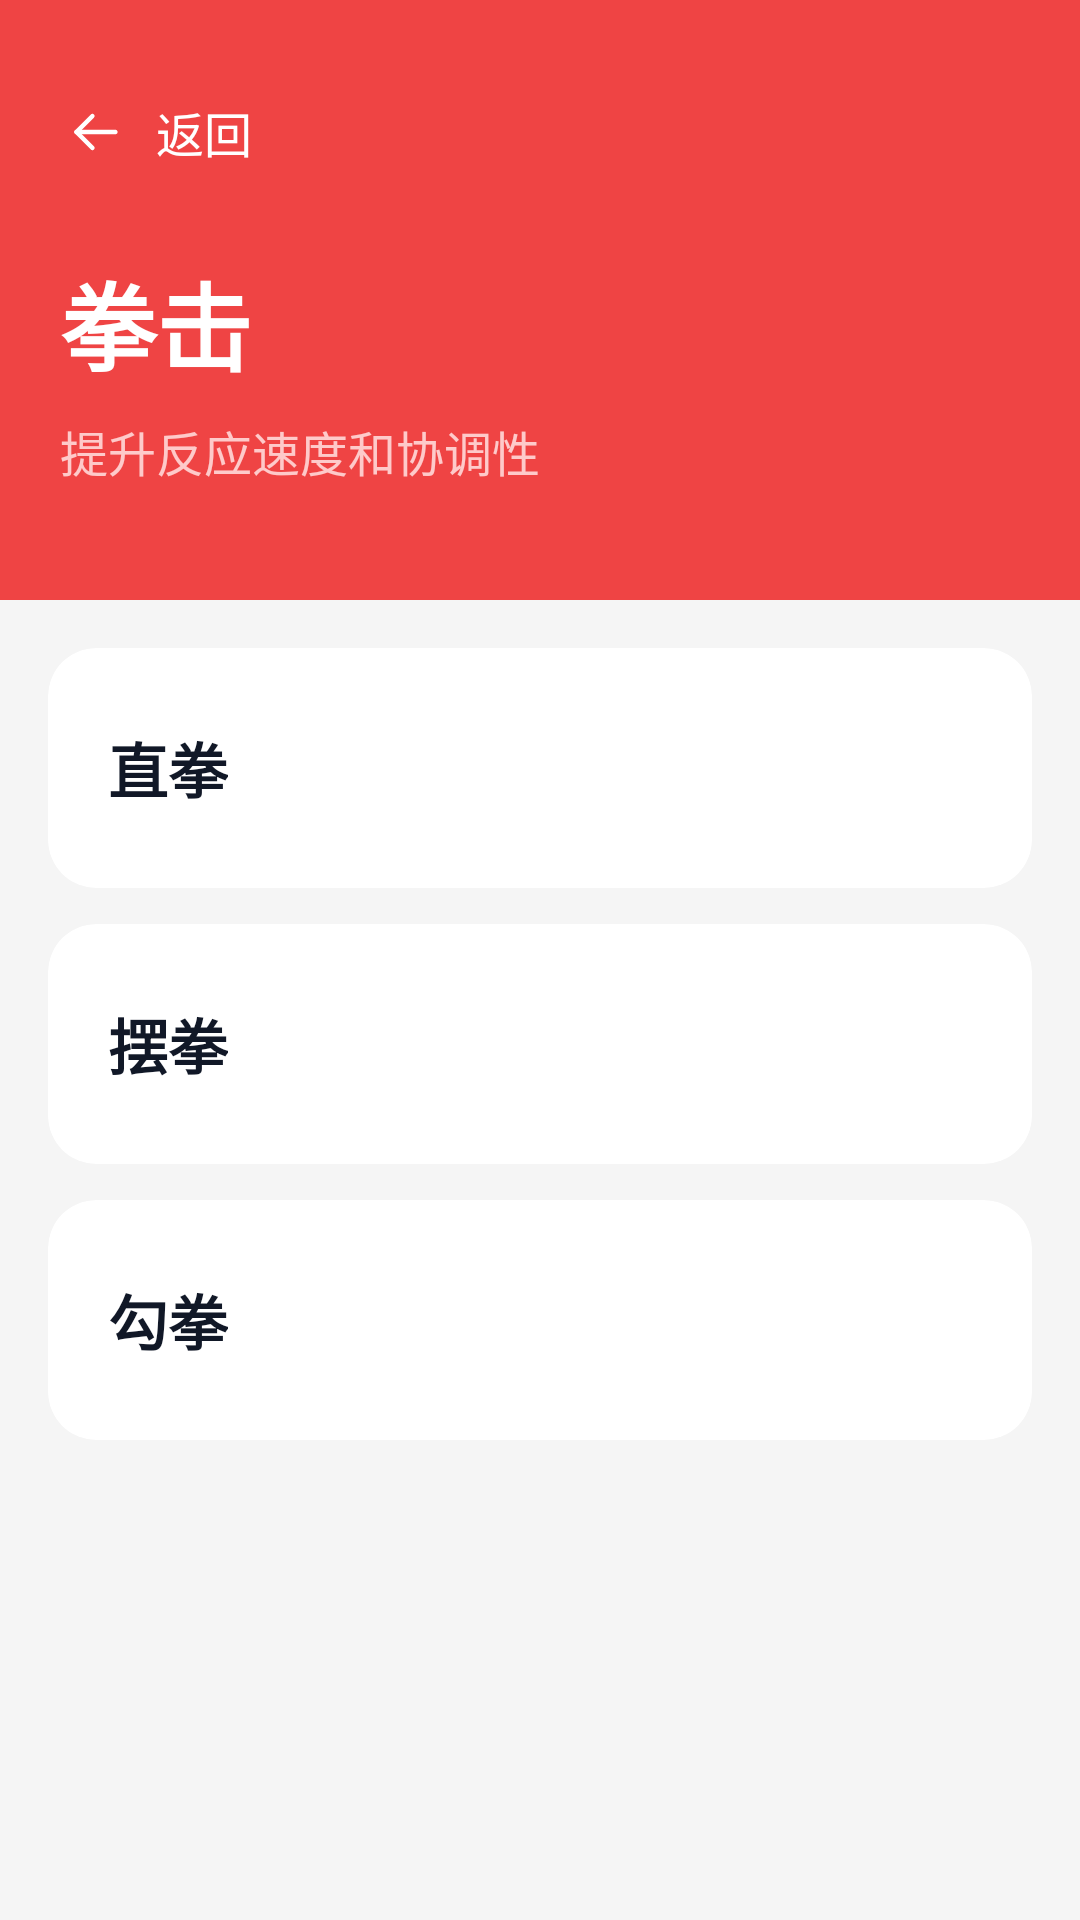

Icon bounding boxes for this 1080*1920 phone screenshot, format (x1, y1, x2, y2):
arrow back: (74, 113, 118, 151)
